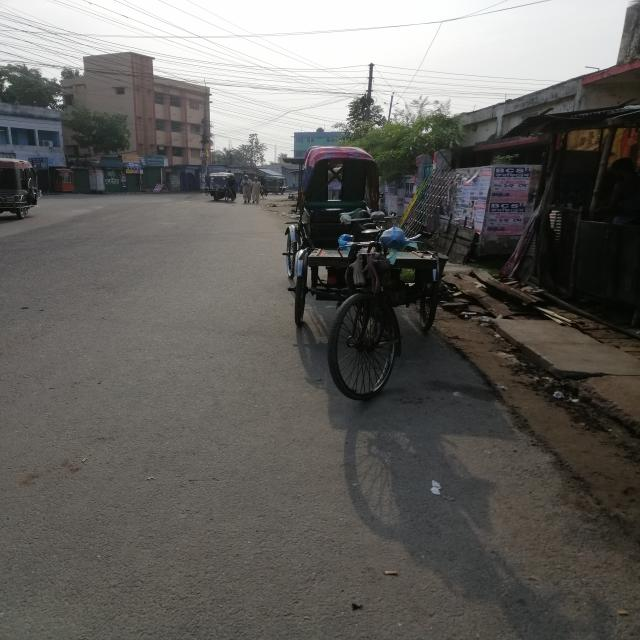Easybike: (1, 151, 62, 230), (194, 159, 249, 227)
Rickshaw: (268, 133, 415, 296)
Van: (218, 212, 486, 413)
